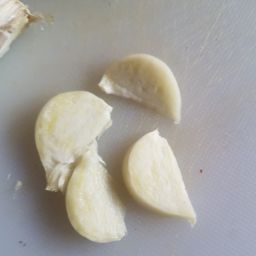Garlic cloves: (72, 34, 194, 128), (119, 112, 208, 234), (26, 80, 117, 196), (51, 123, 130, 254)
